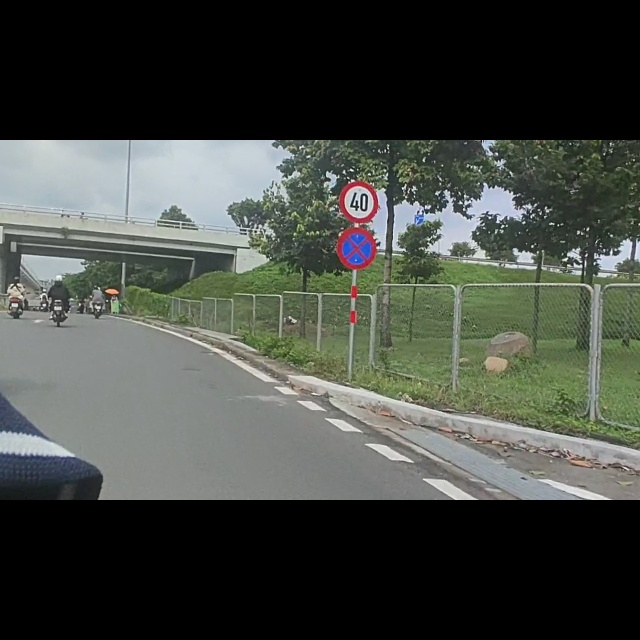bien_cam: (337, 155, 377, 232), (339, 73, 379, 148)
